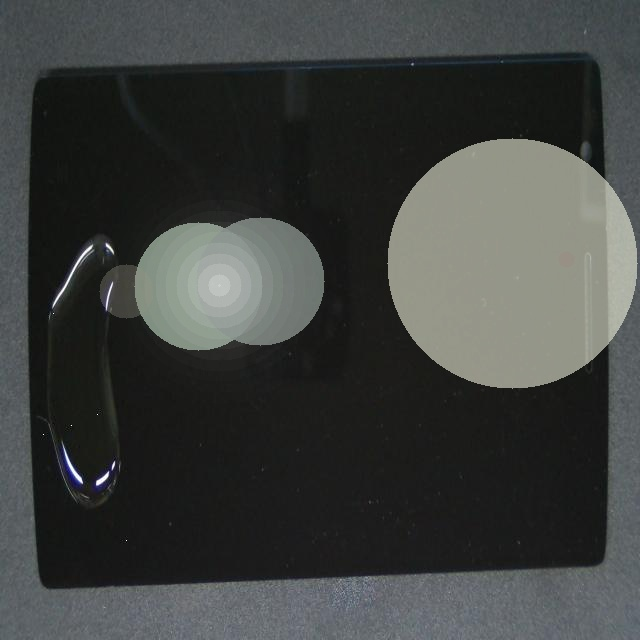oil: (71, 73, 105, 393)
